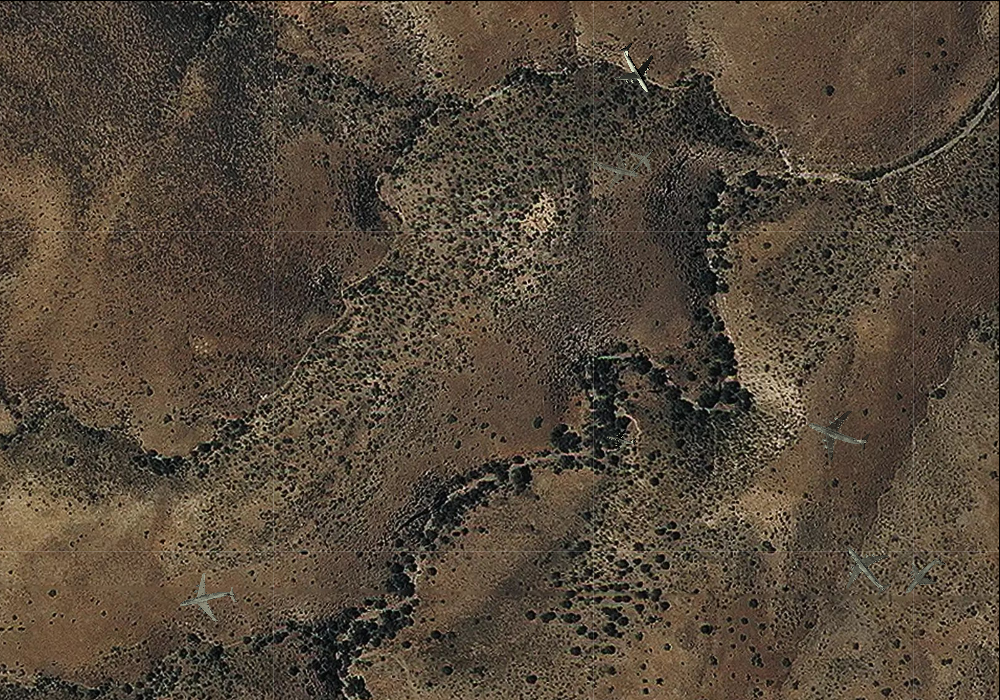plane: (827, 529, 906, 609), (798, 394, 878, 473), (601, 33, 670, 103), (172, 565, 242, 633), (893, 544, 956, 608), (587, 141, 644, 196), (620, 139, 664, 183), (603, 422, 639, 456)
